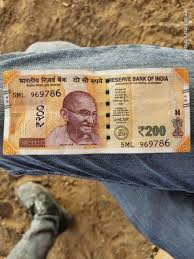twoHundred: (14, 85, 174, 140)
